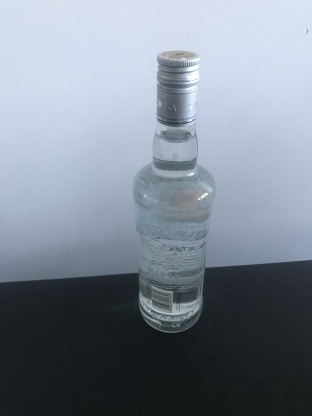nakretka: (155, 48, 202, 128)
